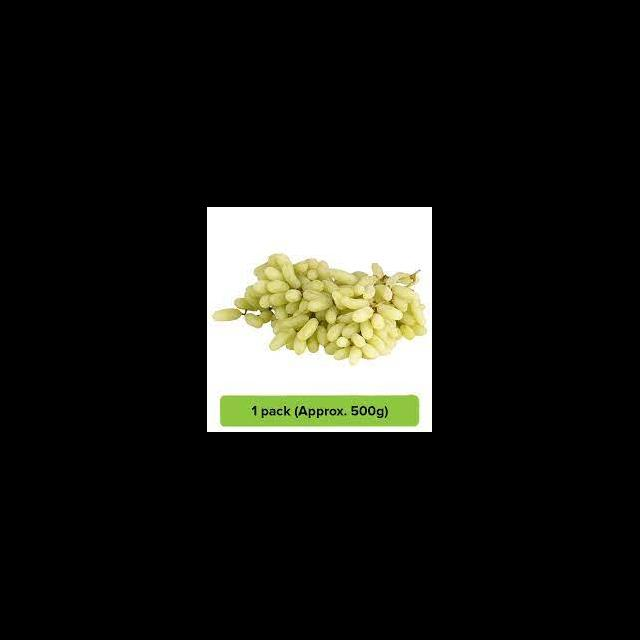grape: (212, 252, 428, 364)
